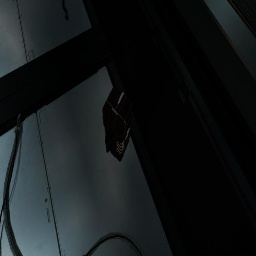FirstAidBox ,: (102, 86, 132, 162)
